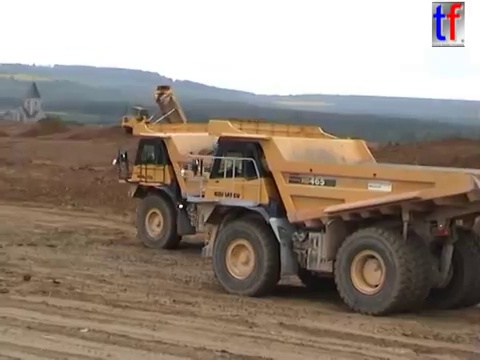truck: (176, 118, 480, 317), (111, 119, 369, 250), (119, 83, 188, 137)
